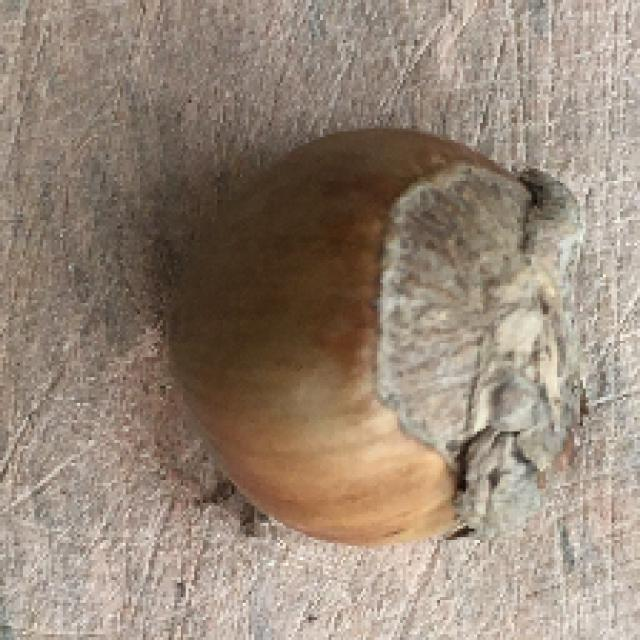damagedHazelnut: (165, 132, 568, 543)
